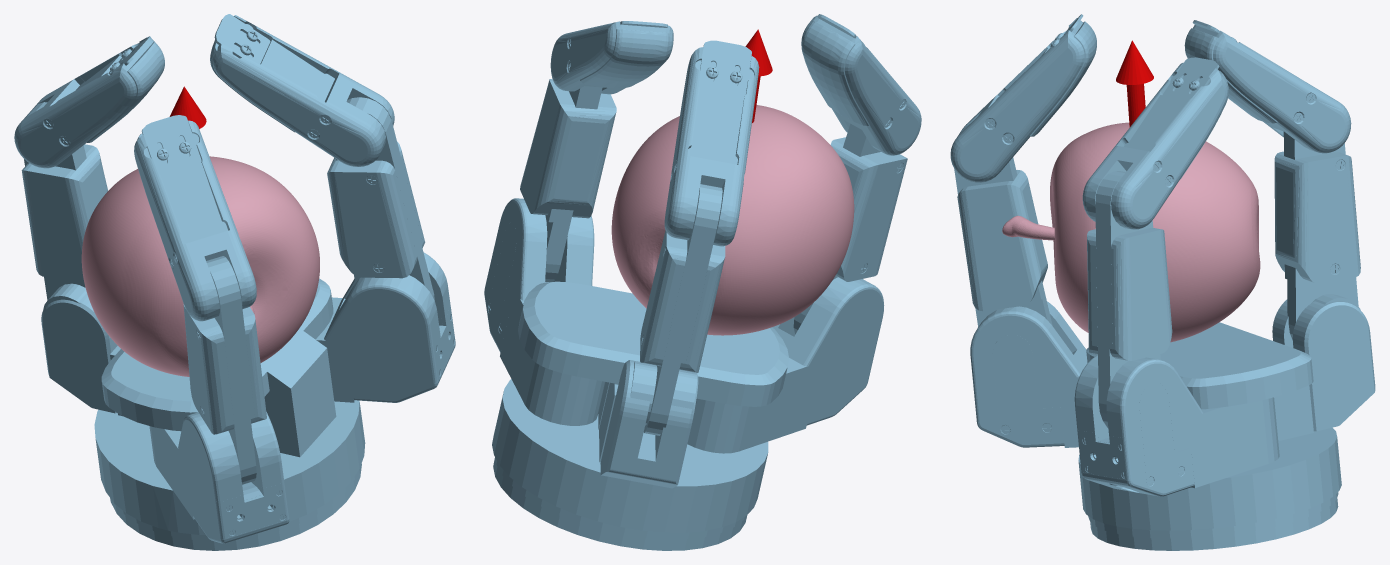
3 renders of one model, left to right at view 1: azimuth 30°, elevation 25°; view 2: azimuth 150°, elevation 25°; view 3: azimuth 270°, elevation 25°, orthographic. The views are drawn at different scales.
Parts seen in each view (by area): view 1: world, apple.stl; view 2: world, apple.stl; view 3: world, apple.stl.
Part boxes in pixels (box(x1,y1,x2,y2)): world: box(14, 14, 455, 550); apple.stl: box(81, 156, 319, 376); world: box(484, 14, 921, 550); apple.stl: box(611, 105, 854, 335); world: box(950, 14, 1375, 550); apple.stl: box(1002, 122, 1260, 342).
Bounding box in the file's own units: 0.1345 × 0.1791 × 0.1454.
